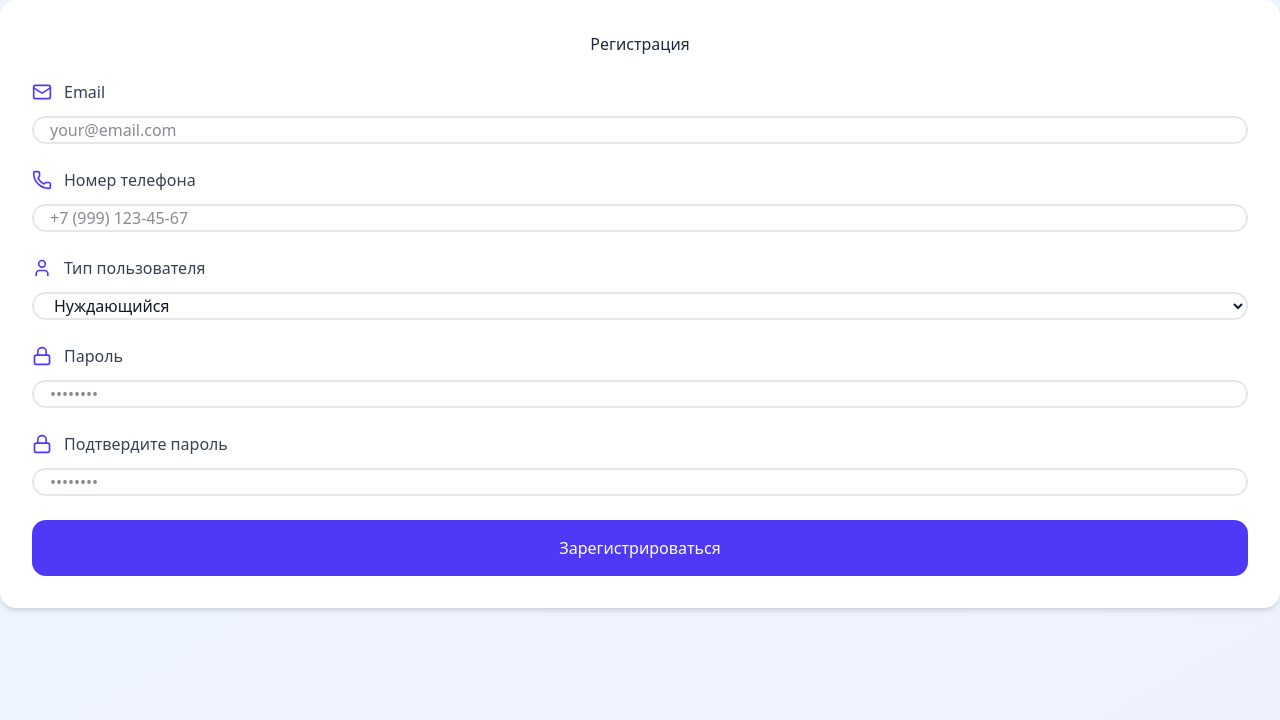
Test: Register › shows backend error when registration fails
The width and height of the screenshot is (1280, 720).
Type "new@test.local" into the field with placeholder "your@email.com" at (640, 130), box [32,116,1248,144]
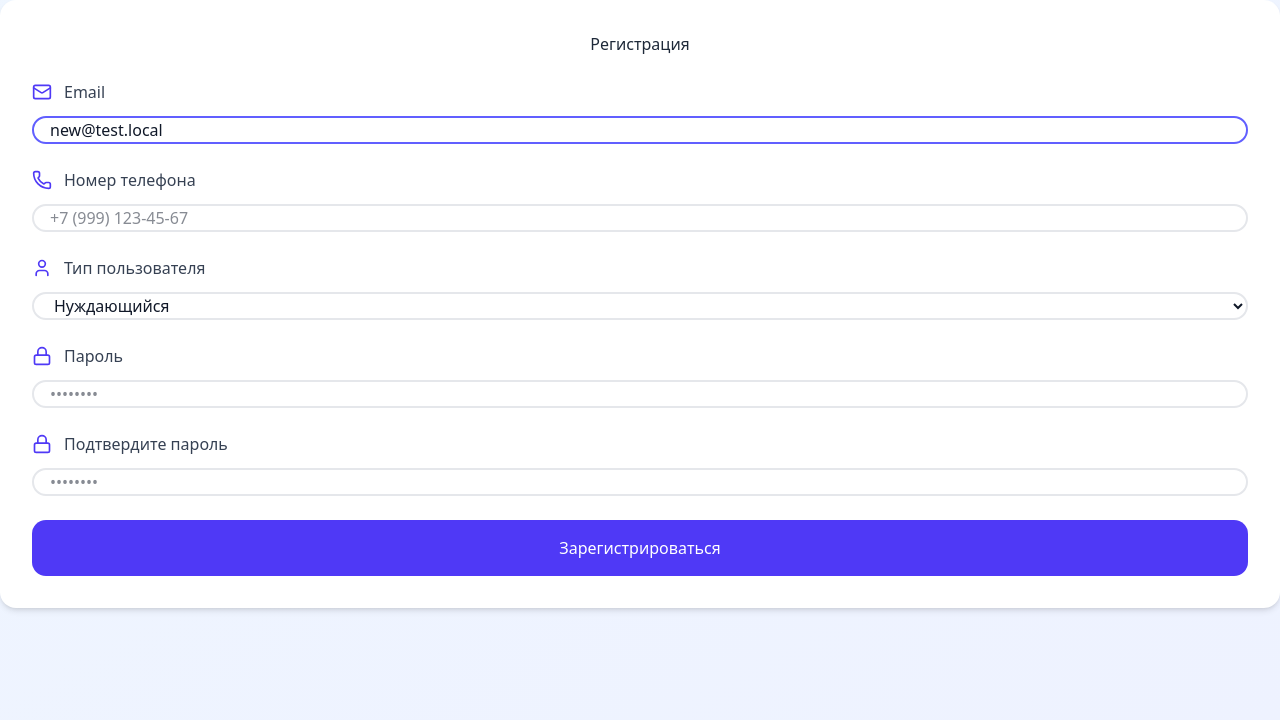
Type "+79991234567" into the field with placeholder "+7 (999) 123-45-67" at (640, 218), box [32,204,1248,232]
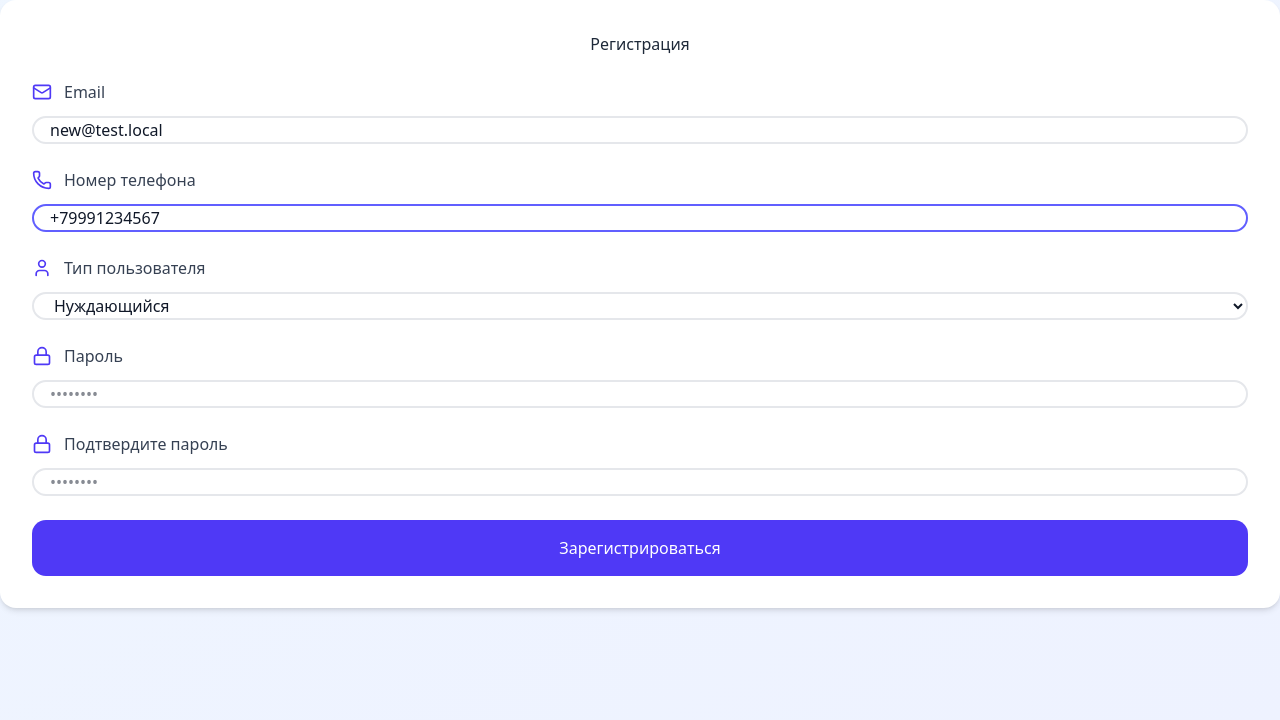
Type "secret123" into the 1st password field with placeholder "••••••••" at (640, 394), box [32,380,1248,408]
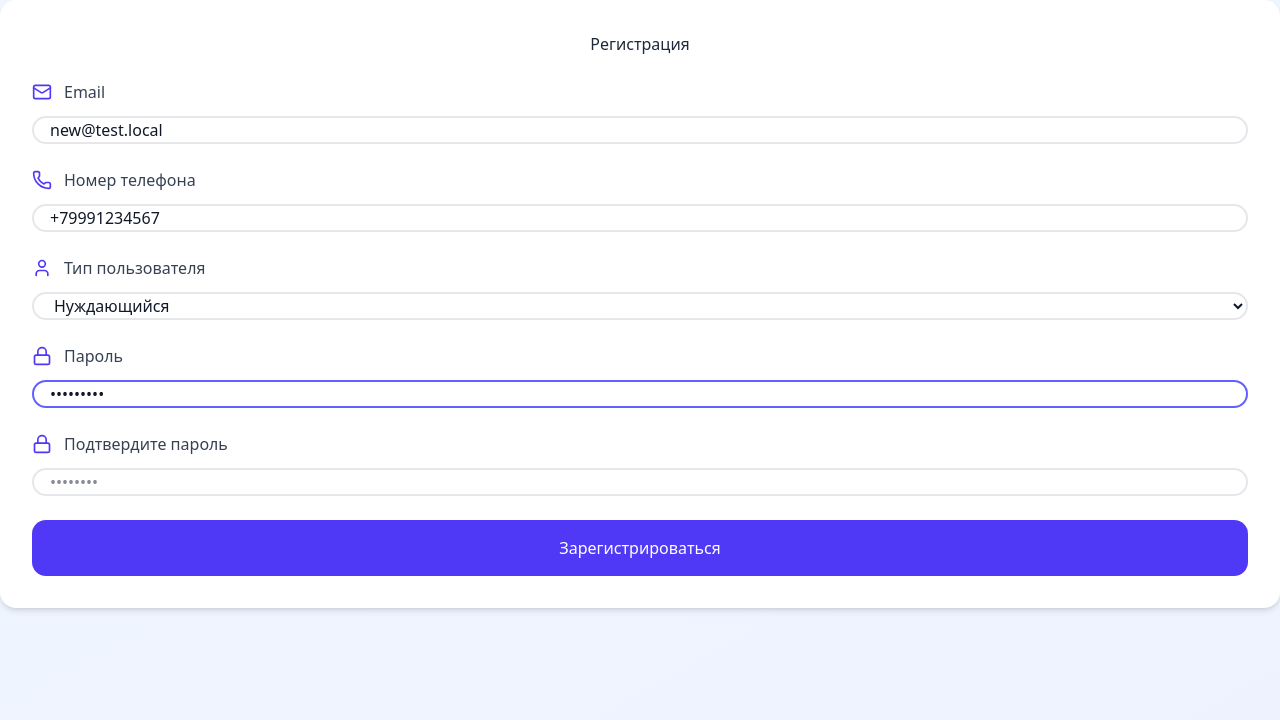
Type "secret123" into the password field with placeholder "••••••••" at (640, 482), box [32,468,1248,496]
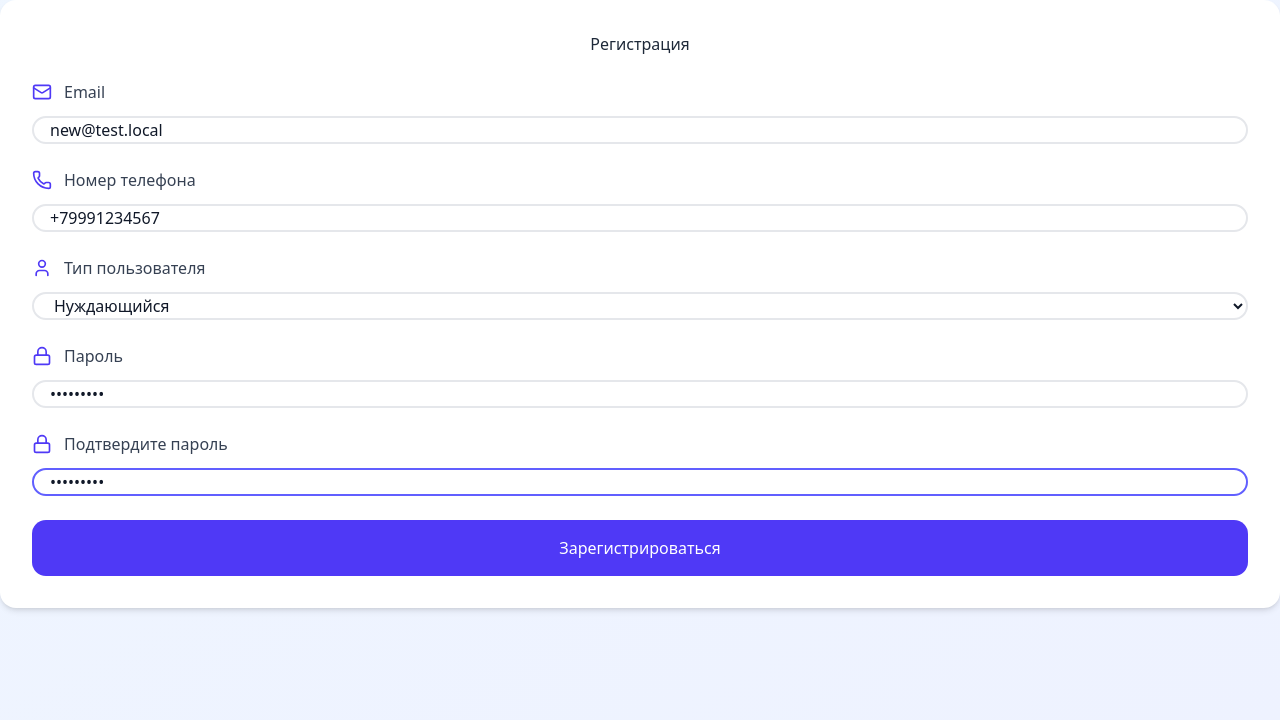
Click the button "Зарегистрироваться" at (640, 548), box [32,520,1248,576]
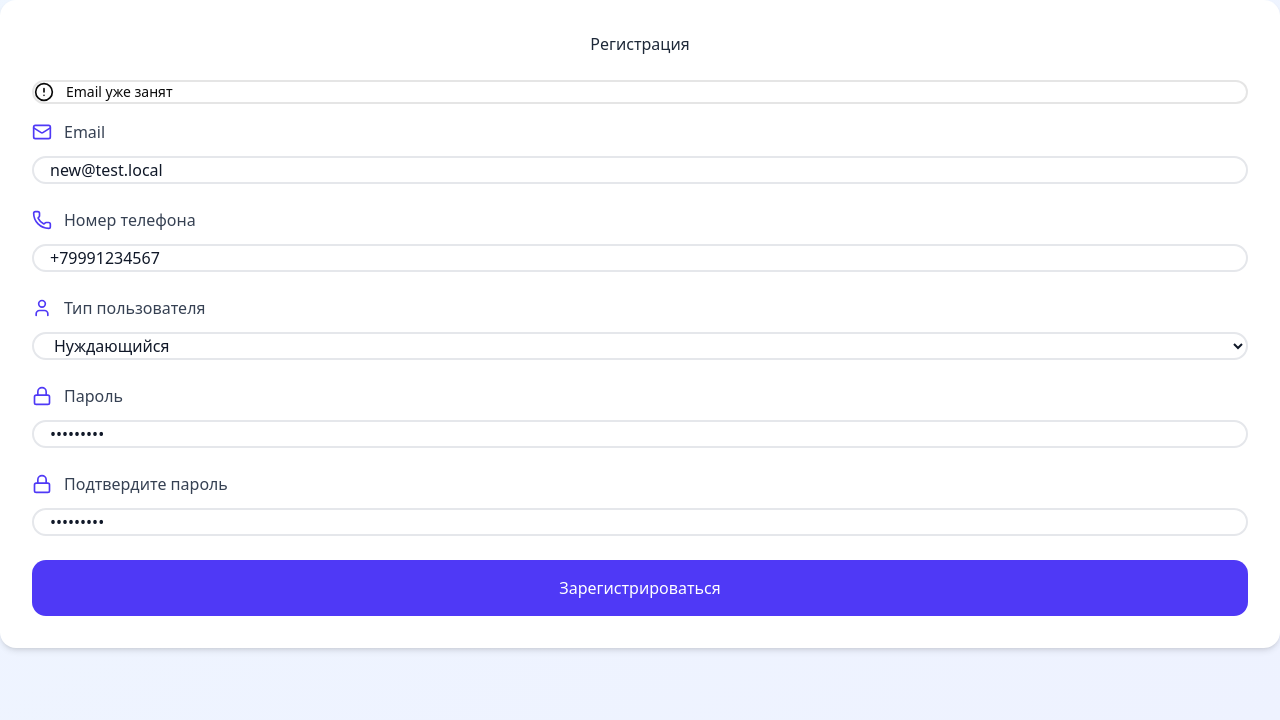
expect the text "Email уже занят" is shown: met, box [66,82,173,102]
